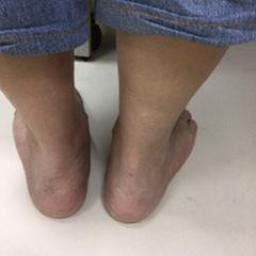Back View -Both Feet-: (4, 66, 214, 234)
